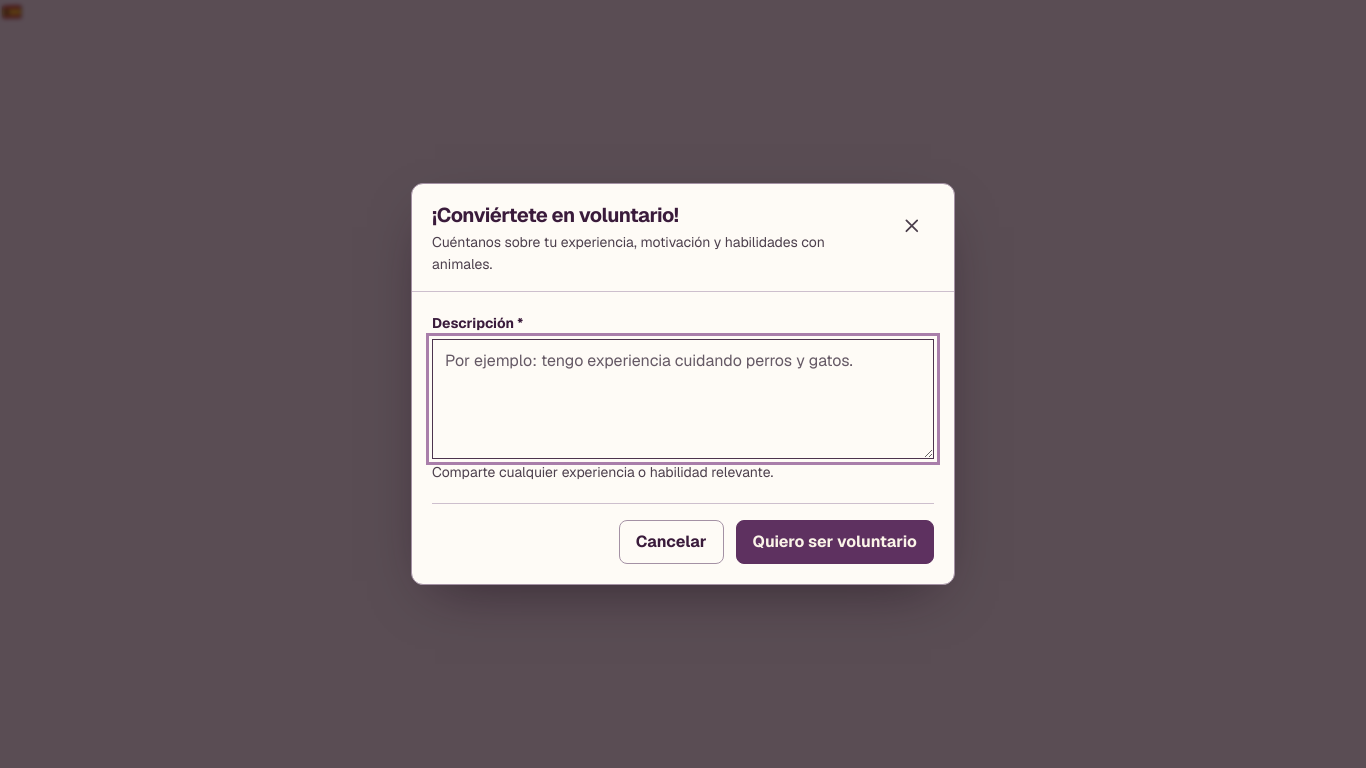
VolunteerModal › focuses and validates the description when becoming a volunteer
Click the button "Quiero ser voluntario" at {"x": 835, "y": 542}, box x1=736 y1=520 x2=934 y2=564
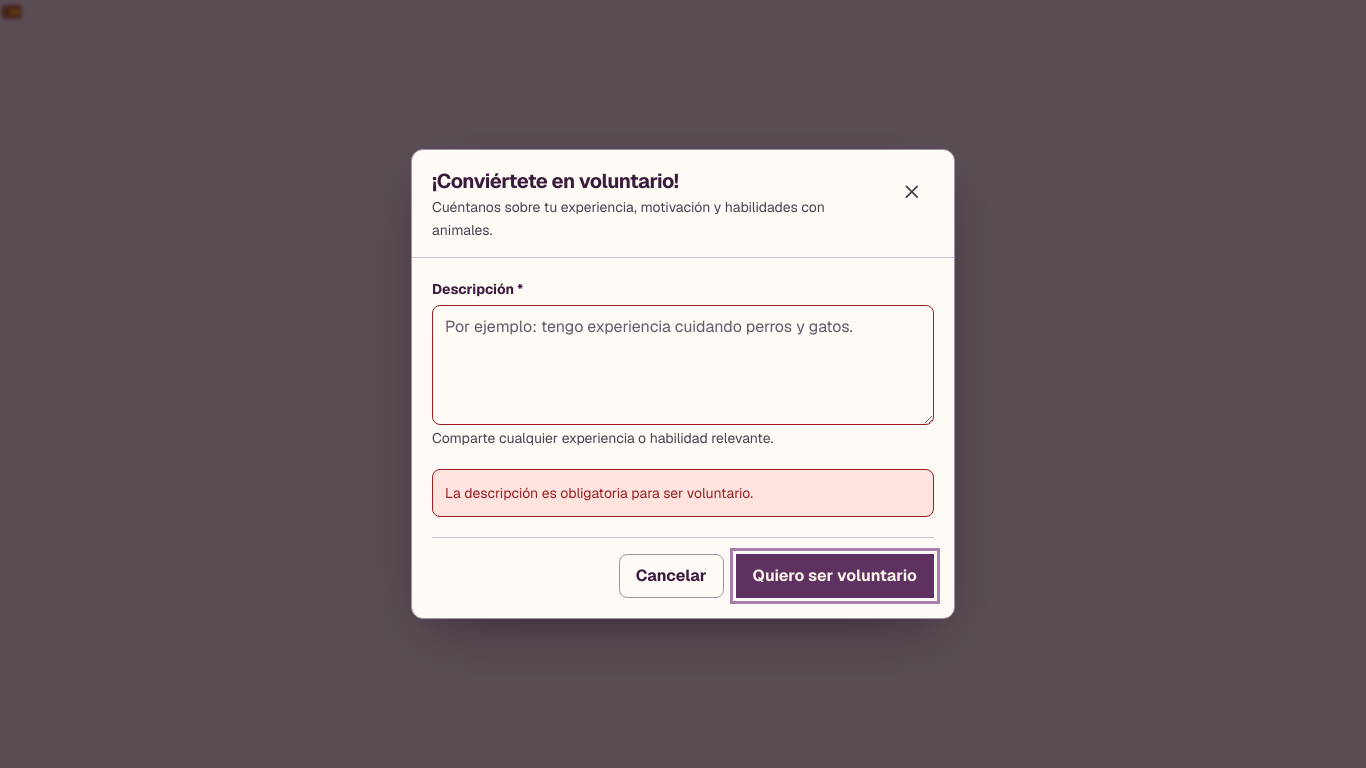
expect the message shows "La descripción es obligatoria": met, box x1=445 y1=484 x2=753 y2=502
